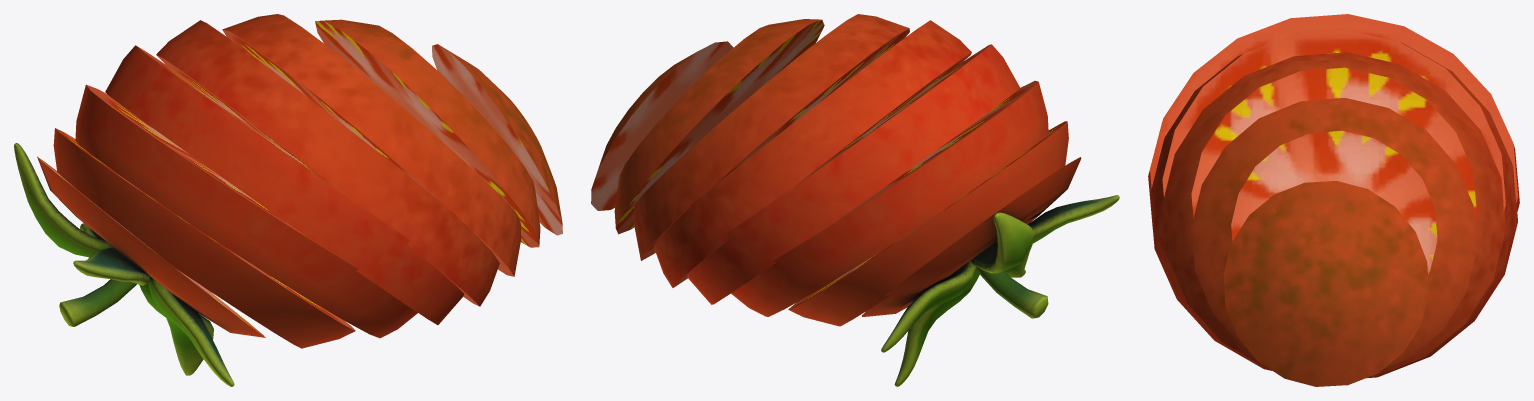
The model's file is m_ingredients_tomato_sliced_01.fbx.
3 renders of one model, left to right at view 1: azimuth 30°, elevation 25°; view 2: azimuth 150°, elevation 25°; view 3: azimuth 270°, elevation 25°, orthographic. The views are drawn at different scales.
Parts seen in each view (by area): view 1: Tomato_Sliced_Static; view 2: Tomato_Sliced_Static; view 3: Tomato_Sliced_Static.
Boxes of the visible parts, x1,y1,x2,y2 form: Tomato_Sliced_Static: [14, 14, 562, 386]; Tomato_Sliced_Static: [591, 14, 1119, 386]; Tomato_Sliced_Static: [1148, 14, 1519, 386].
Size of the model in its own units: 11.08 by 7.31 by 7.94.
1 material, 1 textured.
